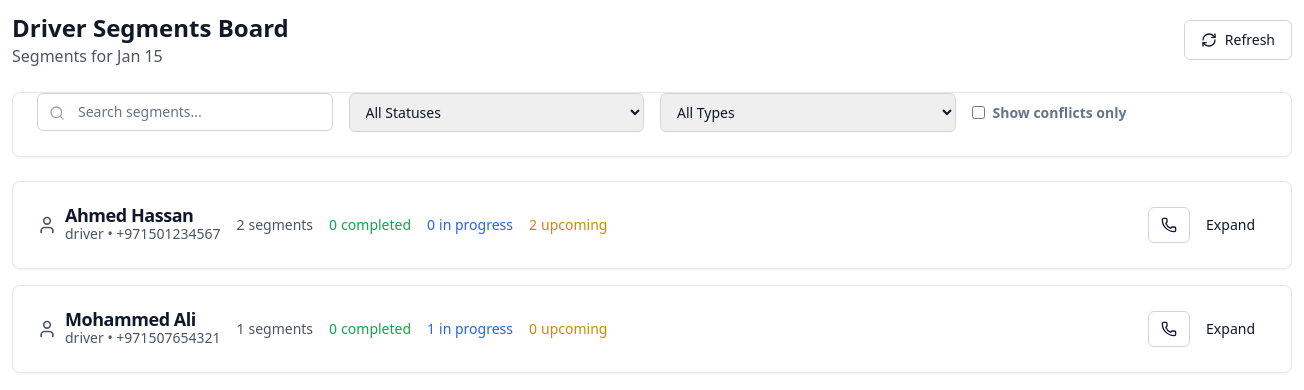
DriverSegmentsBoard › filters segments by search term
Step 1. Type "John Doe" into the field with placeholder "Search segments..." → (185, 112), box left=37, top=93, right=332, bottom=131
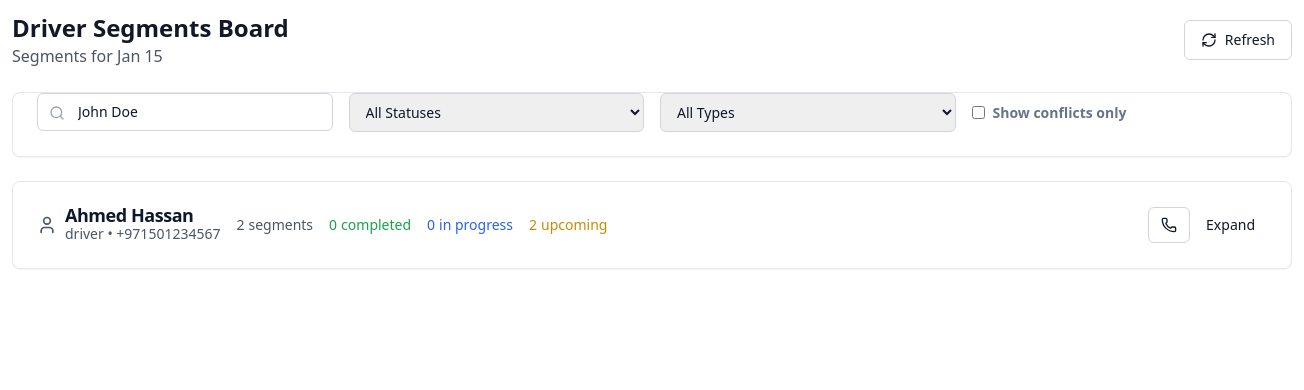
Expected: the heading "Ahmed Hassan" is shown, left=65, top=203, right=194, bottom=227
Now the heading "Mohammed Ali" is gone
